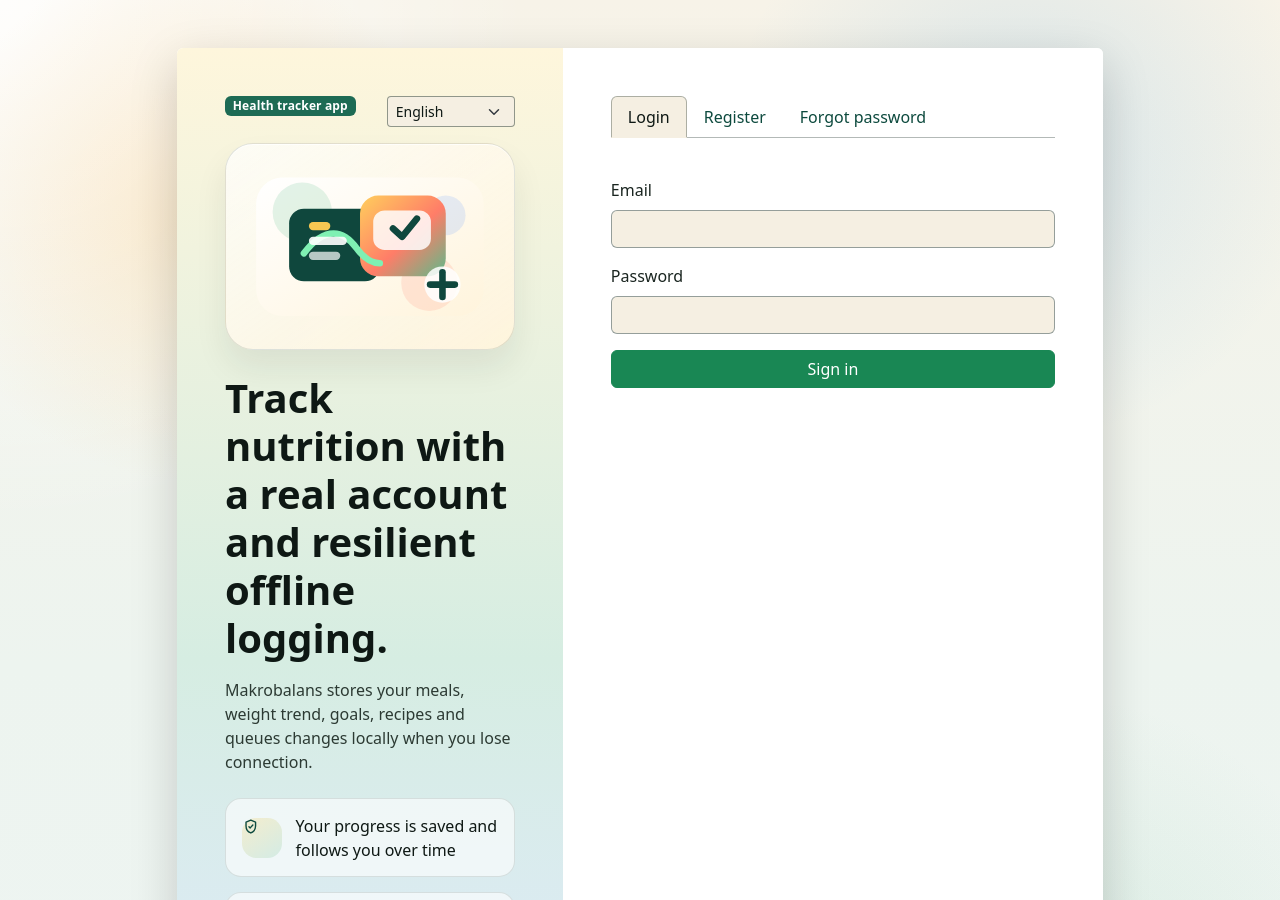
AuthPage › fills the reset form and shows the development reset code after a reset request succeeds
Click the tab "Forgot password" at [863, 117], box [783,96,943,138]
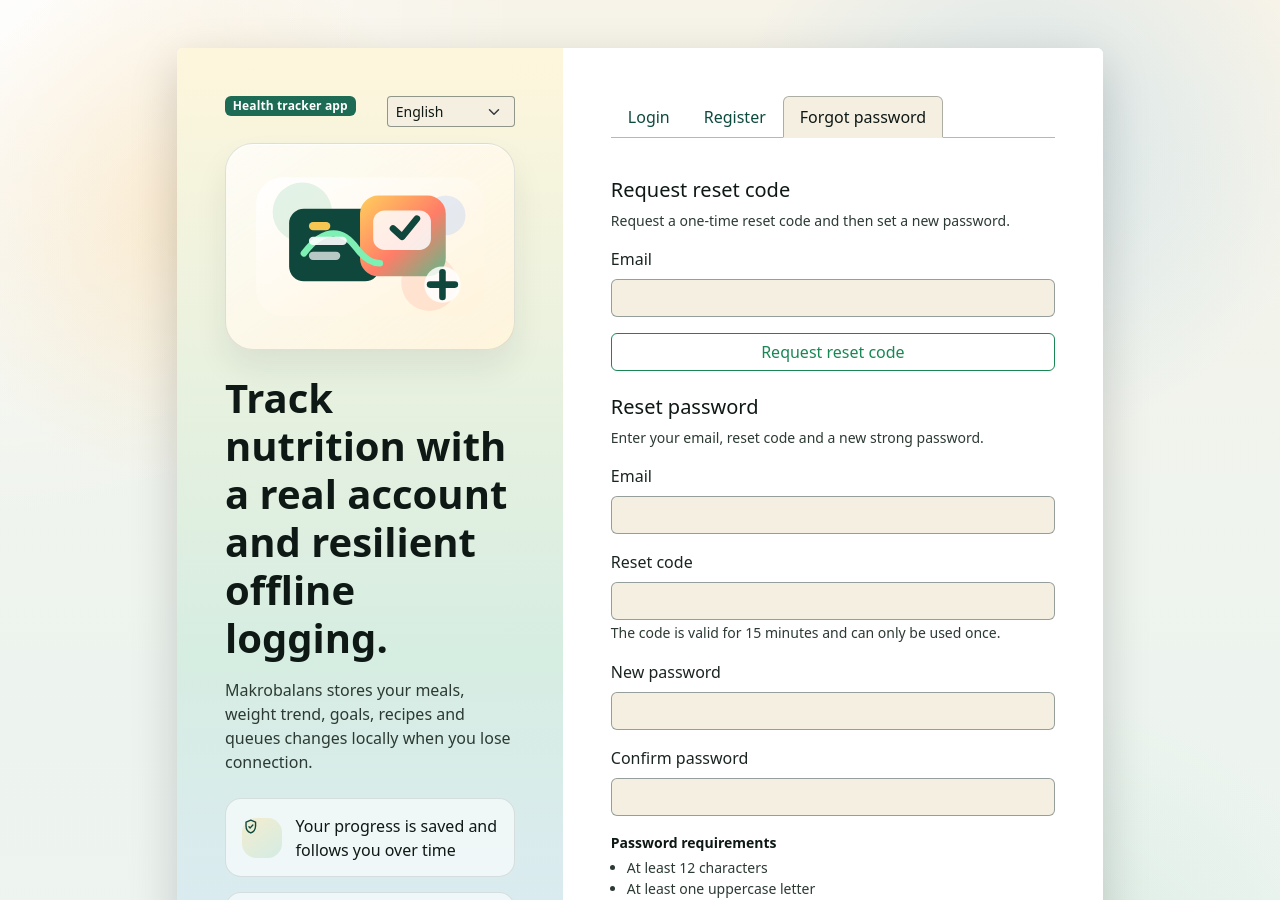
Type "casey@example.com" into the 1st field labelled "Email" at [833, 298], box [611,279,1055,317]
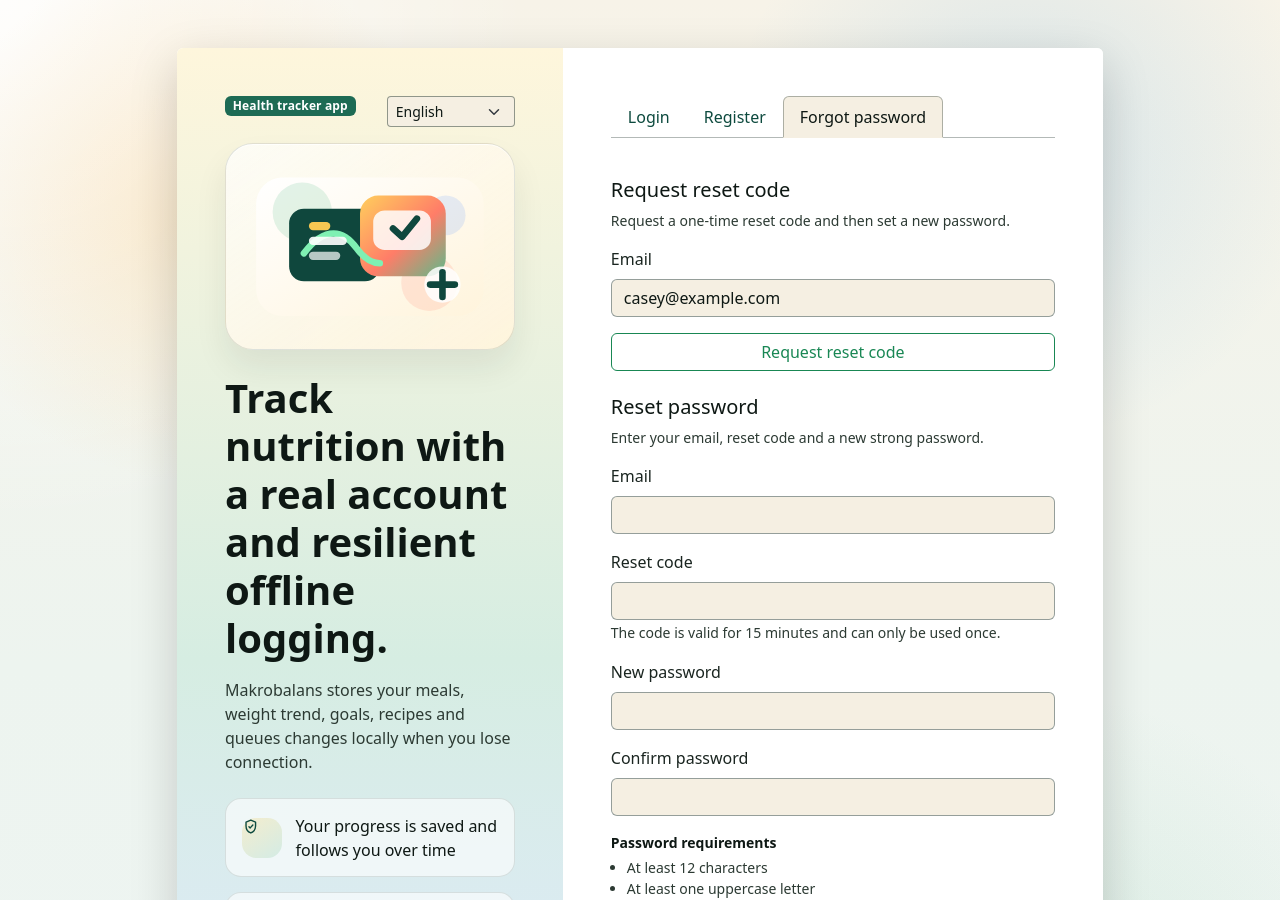
Click the button "Request reset code" at [833, 352], box [611,333,1055,371]
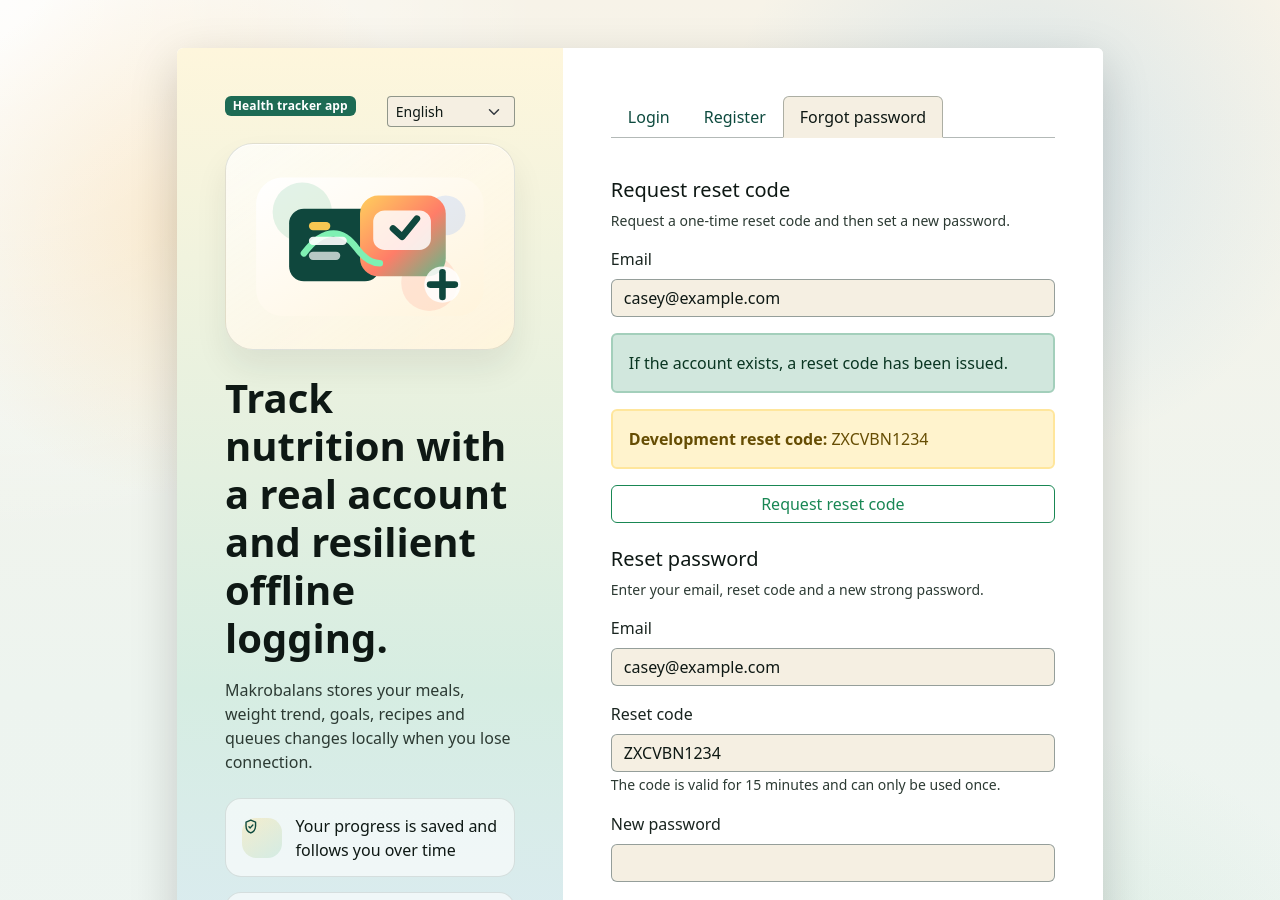
Now the text "If the account exists, a reset code has been issued." is shown, box [611,333,1055,393]
Now the text "ZXCVBN1234" is shown, box [831,428,928,450]
Now the 2nd field labelled "Email" holds "casey@example.com", box [611,648,1055,686]
